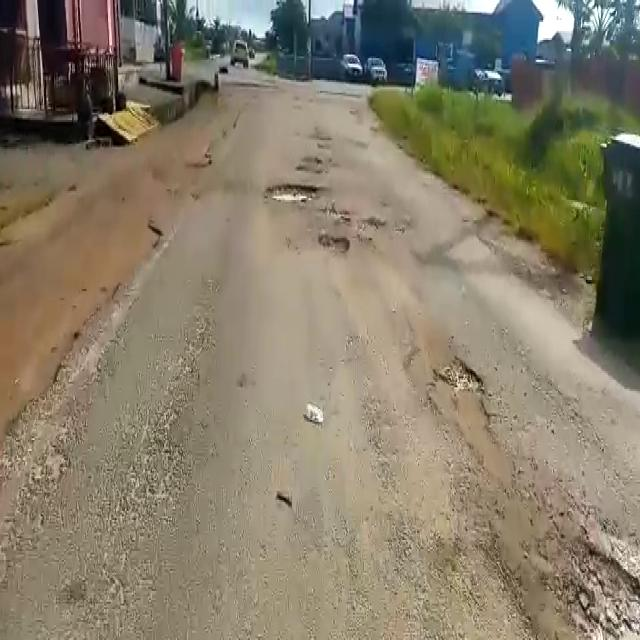Pothole: (426, 358, 521, 496), (568, 522, 640, 632), (262, 180, 320, 200), (314, 230, 352, 253)
